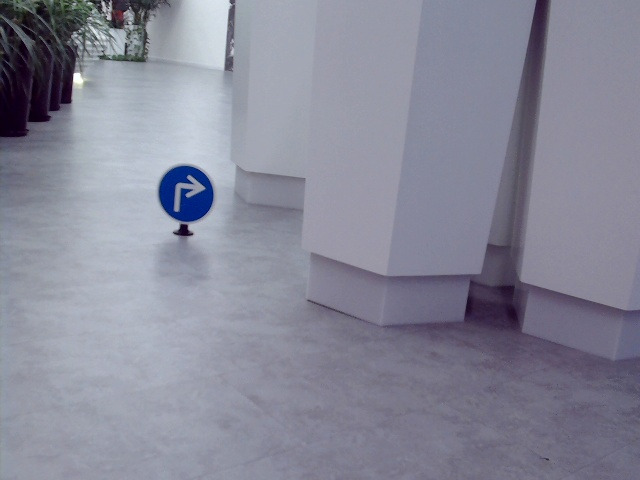turn_right: (167, 170, 203, 213)
